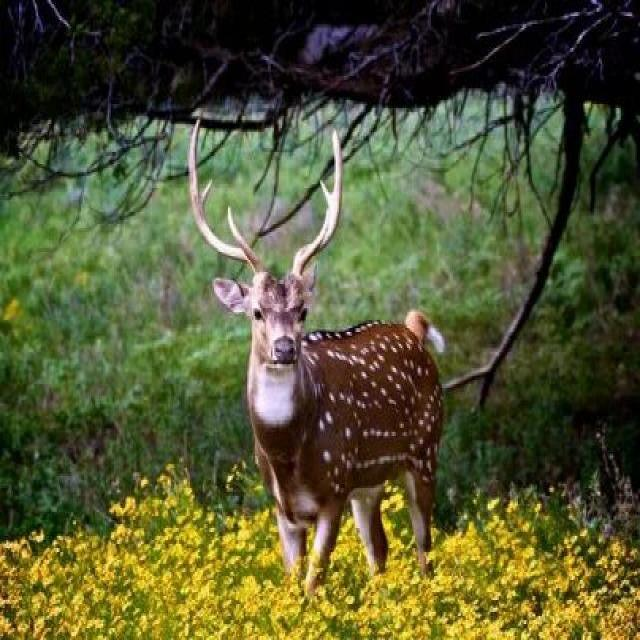deer: (202, 200, 502, 565)
